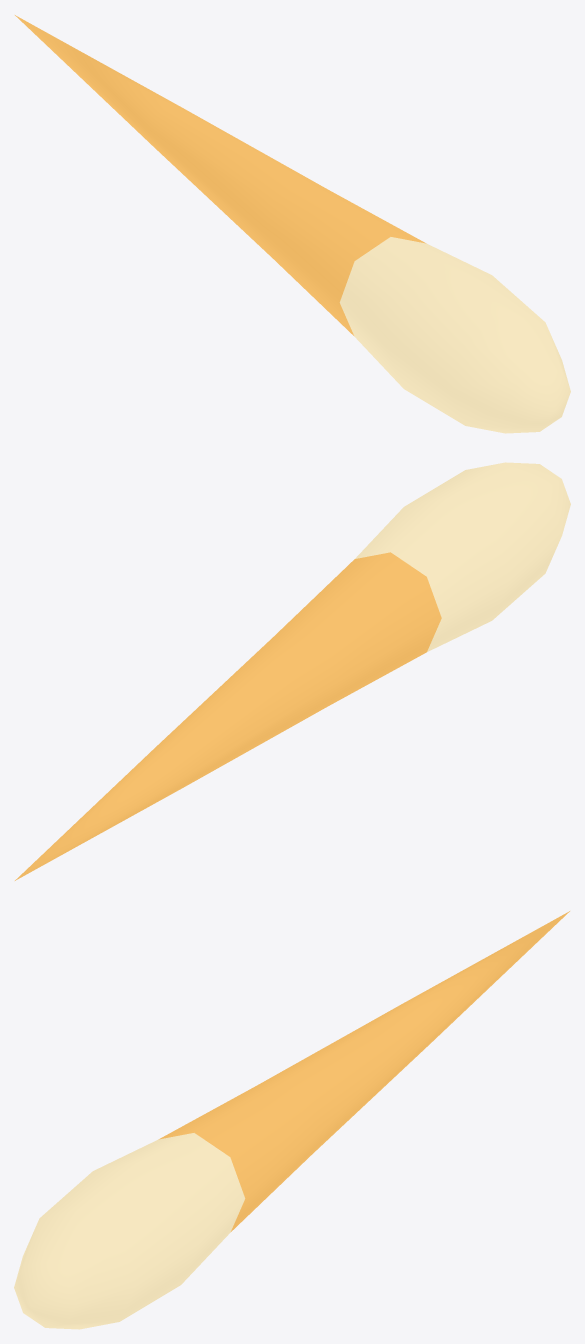
File: infantry_bullet.glb
3 renders of one model, top to bottom at view 1: azimuth 30°, elevation 25°; view 2: azimuth 150°, elevation 25°; view 3: azimuth 330°, elevation 25°, orthographic.
Visible parts, largest first — view 1: infantry_bullet, infantry_bullet_trail; view 2: infantry_bullet_trail, infantry_bullet; view 3: infantry_bullet, infantry_bullet_trail.
Boxes of the visible parts, x1,y1,x2,y2 form: infantry_bullet: (339,237,570,433); infantry_bullet_trail: (15,15,426,335); infantry_bullet_trail: (15,552,441,880); infantry_bullet: (355,462,570,651); infantry_bullet: (14,1133,245,1329); infantry_bullet_trail: (158,911,569,1231).
Size of the model in its own units: 0.088 by 0.088 by 0.66.
